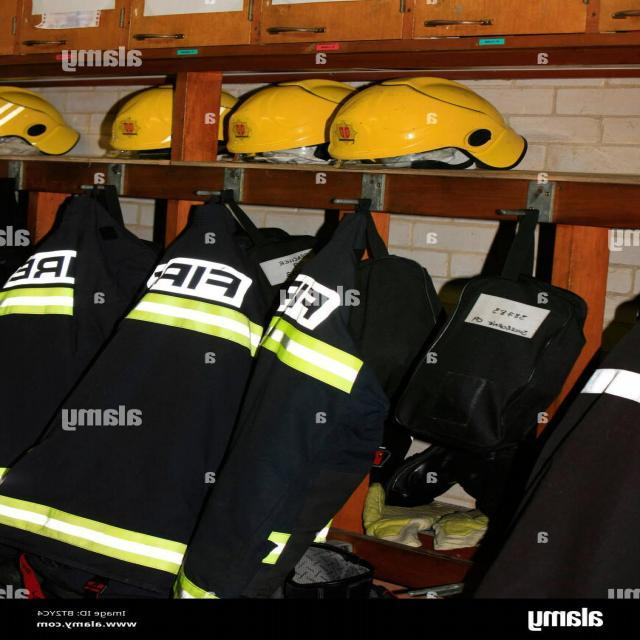reflective_jacket: (245, 228, 403, 537), (8, 205, 152, 500), (426, 258, 569, 535), (149, 210, 266, 519), (570, 274, 639, 581)
safety_helmet: (323, 74, 526, 167), (218, 75, 359, 156), (97, 87, 222, 176), (0, 74, 83, 157)
